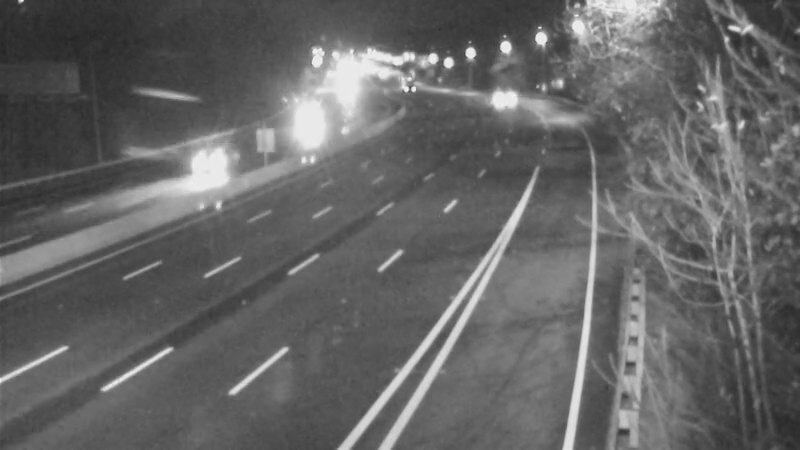vehicle: (167, 116, 247, 196), (382, 55, 432, 105), (472, 73, 522, 123), (286, 102, 336, 152)
